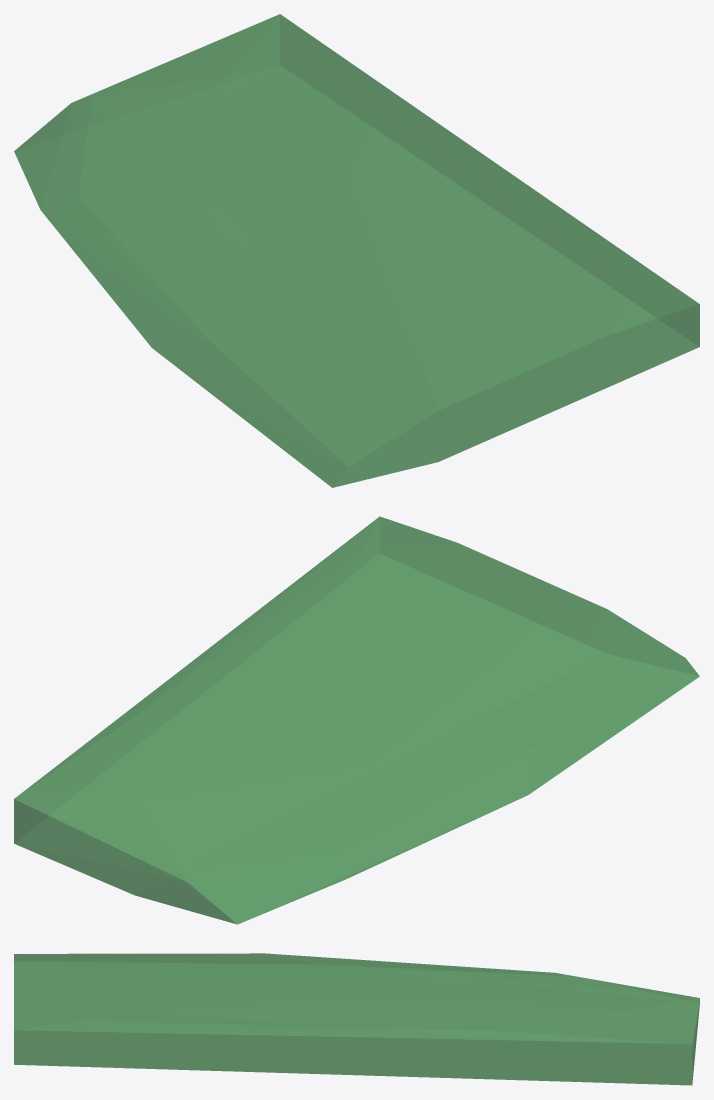
The picture shows the model from 3 angles, top to bottom: view 1: azimuth 30°, elevation 25°; view 2: azimuth 150°, elevation 25°; view 3: azimuth 270°, elevation 25°; orthographic projection. The views are drawn at different scales.
Parts seen in each view (by area): view 1: Shape_IndexedFaceSet.003_Shape_IndexedFaceSet.10713; view 2: Shape_IndexedFaceSet.003_Shape_IndexedFaceSet.10713; view 3: Shape_IndexedFaceSet.003_Shape_IndexedFaceSet.10713.
Boxes of the visible parts, x1,y1,x2,y2 form: Shape_IndexedFaceSet.003_Shape_IndexedFaceSet.10713: (14,14,699,487); Shape_IndexedFaceSet.003_Shape_IndexedFaceSet.10713: (14,516,699,924); Shape_IndexedFaceSet.003_Shape_IndexedFaceSet.10713: (14,953,699,1085).
Bounding box in the file's own units: 0.1486 × 0.0363 × 0.2972.
